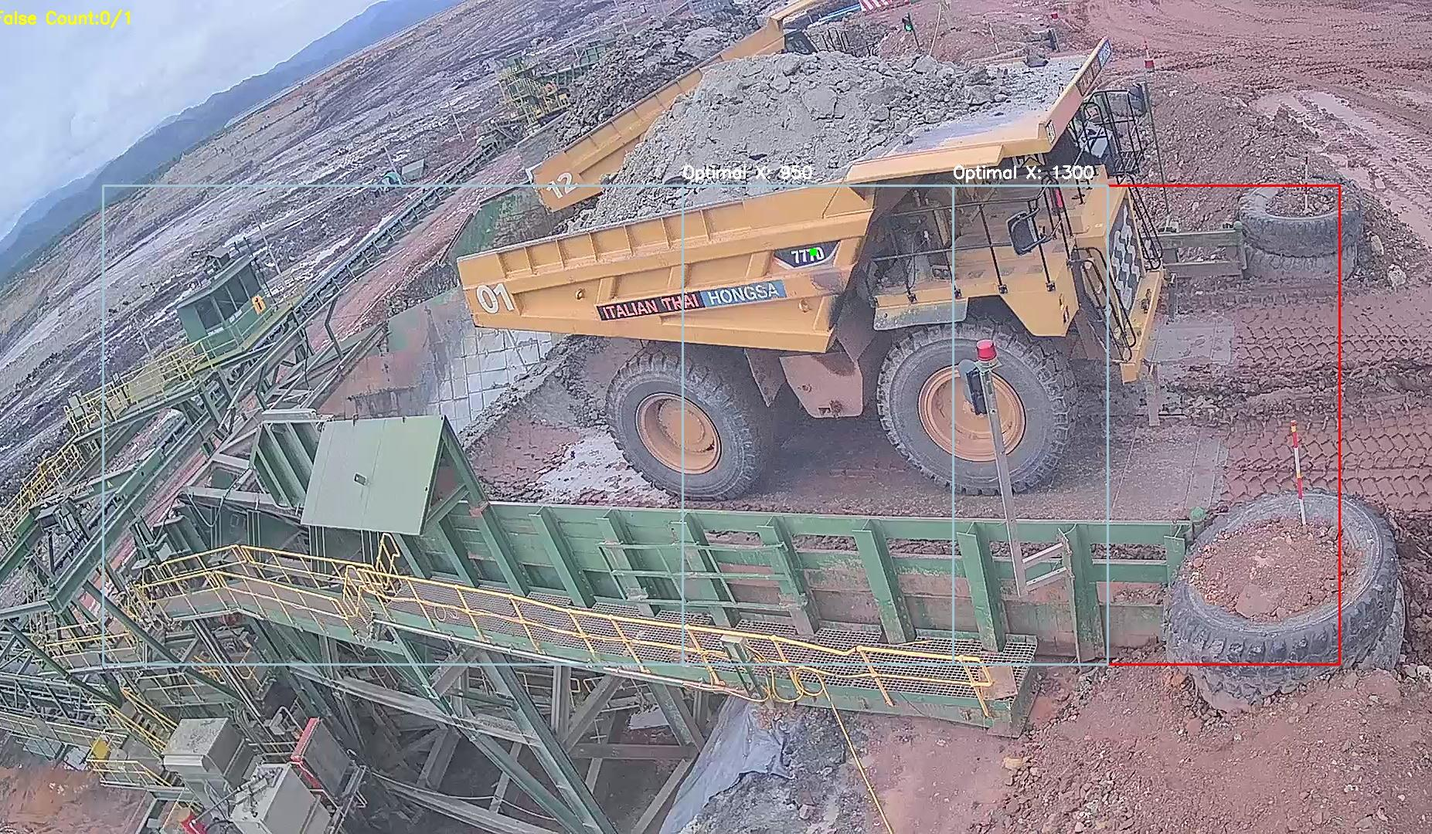company: (588, 278, 798, 327)
full_load: (622, 47, 898, 211)
mining_truck: (453, 23, 1186, 496)
tail_number: (469, 277, 521, 322)
truck_size: (773, 237, 838, 270)
